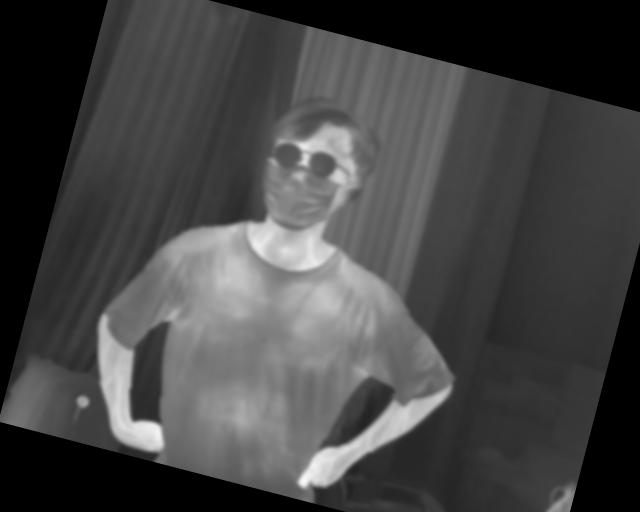face: (259, 259, 372, 384), (350, 261, 455, 379)
